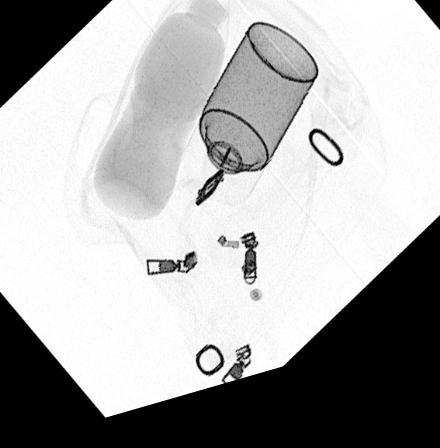Sprayer: (173, 34, 320, 221)
